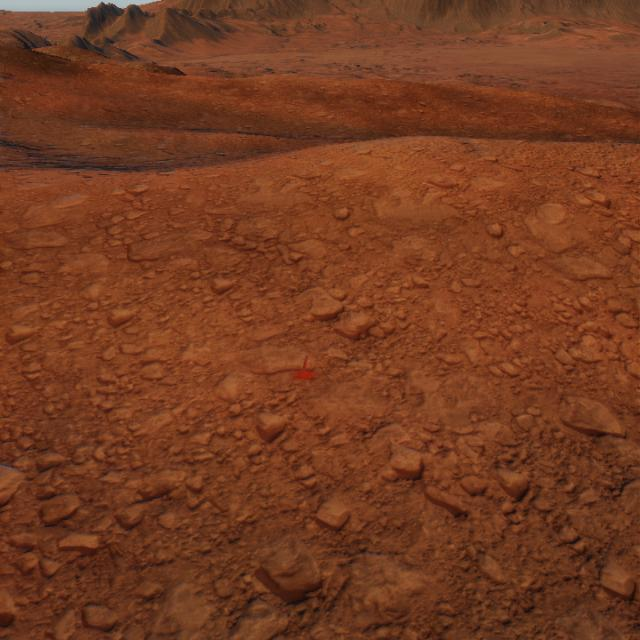newhammer: (294, 354, 314, 380)
